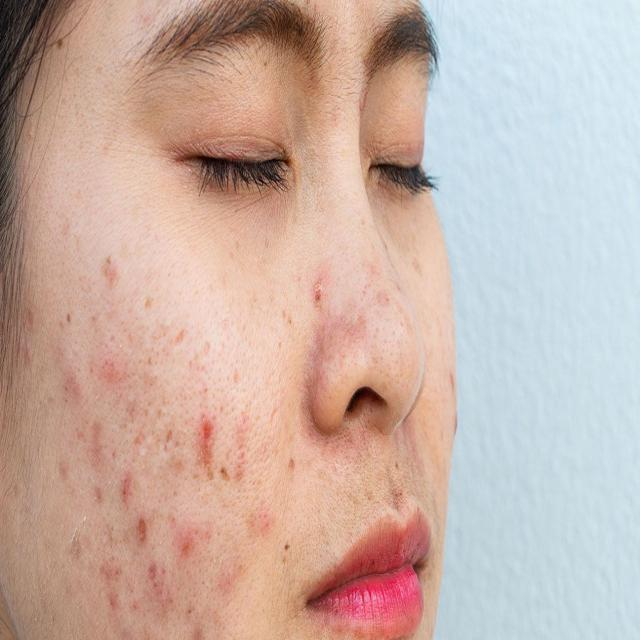Acne: (51, 243, 232, 611)
Englarged-Pores: (242, 316, 292, 464)
Oily-Skin: (68, 57, 522, 640)
